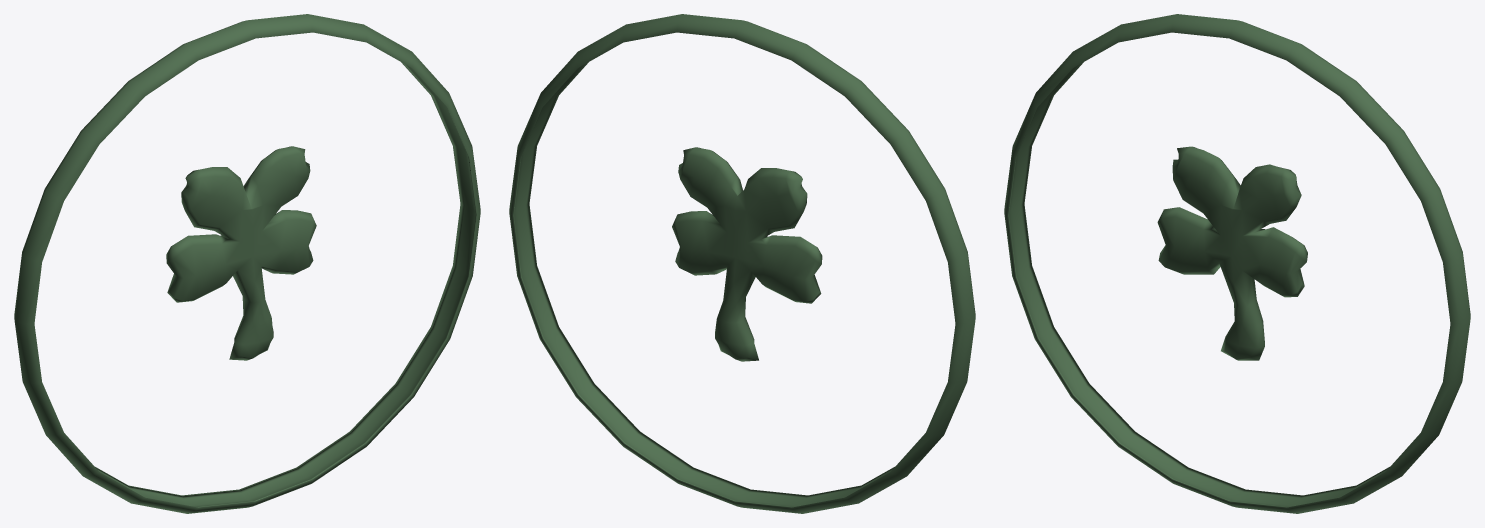
File: Powerup_lucky.glb
3 views of the same model, side by side, from view 1: azimuth 30°, elevation 25°; view 2: azimuth 150°, elevation 25°; view 3: azimuth 330°, elevation 25° (orthographic).
Parts seen in each view (by area): view 1: Ring, Emblem; view 2: Ring, Emblem; view 3: Ring, Emblem.
Part boxes in pixels (box(x1,y1,x2,y2)): Ring: box(14, 14, 480, 513); Emblem: box(166, 146, 316, 360); Ring: box(509, 14, 975, 513); Emblem: box(672, 147, 822, 361); Ring: box(1004, 14, 1470, 513); Emblem: box(1157, 146, 1307, 360).
Bounding box in the file's own units: 0.0772 × 0.0772 × 0.00478.
